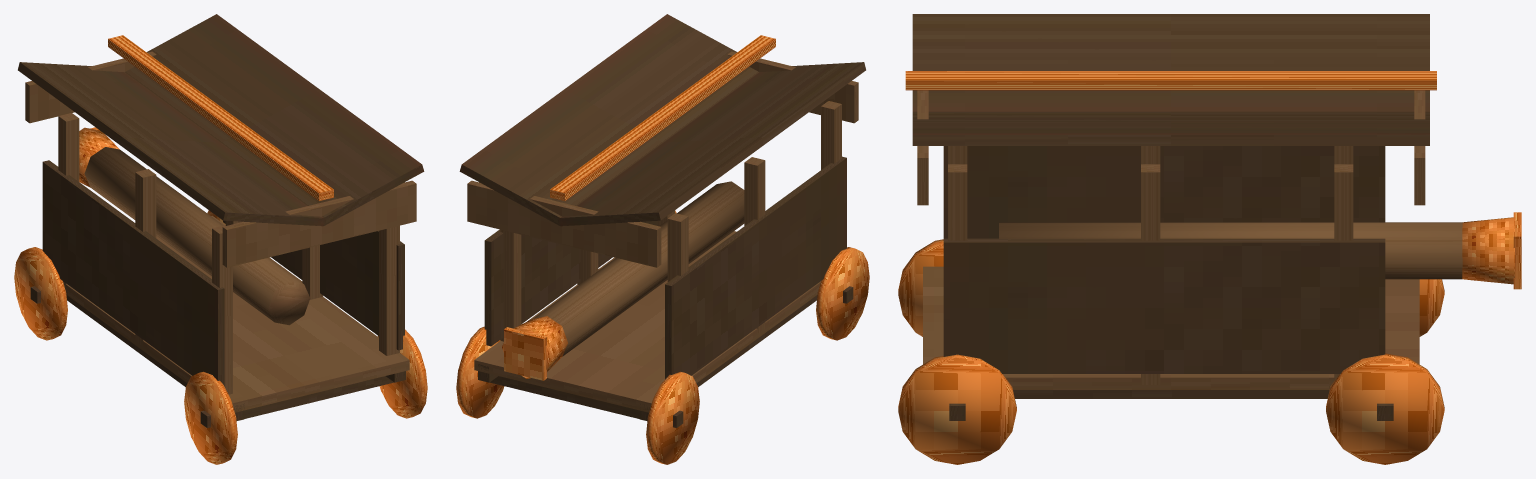
File: ae_ram_bronze_lod2.glb
3 views of the same model, side by side, from view 1: azimuth 30°, elevation 25°; view 2: azimuth 150°, elevation 25°; view 3: azimuth 270°, elevation 25° (orthographic). The views are drawn at different scales.
Parts seen in each view (by area): view 1: roofR, wallL, roofL, floor, log_core, gable_r, wallR, ridge, wheel_RL_tyre, wheel_FL_tyre, post_1_0, wheel_RR_tyre (+8 smaller); view 2: roofR, wallL, roofL, floor, log_core, gable_f, wallR, ridge, wheel_FL_tyre, wheel_RL_tyre, wheel_FR_tyre, head_plate (+9 smaller); view 3: wallR, roofL, wallL, roofR, ridge, log_core, wheel_RR_tyre, wheel_FR_tyre, floor, ram_head, runnerR, wheel_RL_tyre (+6 smaller).
Boxes of the visible parts, x1,y1,x2,y2 form: roofR: (125, 14, 424, 225); wallL: (42, 160, 224, 386); roofL: (18, 62, 325, 226); floor: (65, 215, 409, 412); log_core: (84, 147, 310, 325); gable_r: (222, 180, 416, 267); wallR: (223, 220, 404, 350); ridge: (108, 35, 333, 200); wheel_RL_tyre: (184, 371, 237, 464); wheel_FL_tyre: (14, 247, 67, 340); post_1_0: (379, 225, 399, 355); wheel_RR_tyre: (378, 329, 427, 418); roofR: (459, 14, 758, 225); wallL: (665, 156, 846, 379); roofL: (558, 62, 865, 226); floor: (474, 231, 820, 412); log_core: (533, 181, 744, 356); gable_f: (467, 180, 661, 267); wallR: (484, 221, 657, 346); ridge: (550, 35, 775, 200); wheel_FL_tyre: (646, 371, 699, 464); wheel_RL_tyre: (816, 247, 869, 340); wheel_FR_tyre: (456, 326, 504, 418); head_plate: (504, 327, 546, 380); wallR: (943, 238, 1385, 373); roofL: (912, 14, 1429, 111); wallL: (943, 146, 1385, 238); roofR: (912, 111, 1429, 145); ridge: (905, 71, 1436, 90); log_core: (999, 222, 1462, 279); wheel_RR_tyre: (898, 354, 1016, 464); wheel_FR_tyre: (1326, 353, 1444, 464); floor: (923, 266, 1419, 389); ram_head: (1462, 217, 1514, 284); runnerR: (1013, 390, 1329, 398); wheel_RL_tyre: (898, 239, 943, 336).
Size of the model in its own units: 2.15 by 2.64 by 4.52.
2 materials, 2 textured.
